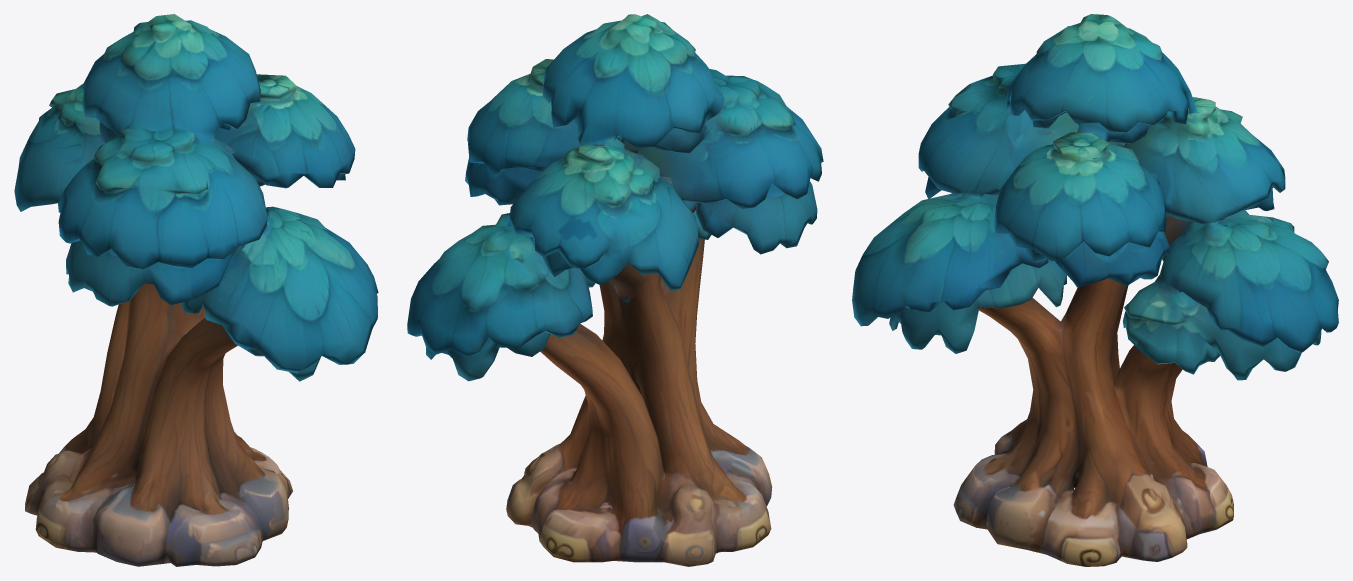
The model's file is 09-garden-teal-dome-tree.glb.
3 views of the same model, side by side, from view 1: azimuth 30°, elevation 25°; view 2: azimuth 150°, elevation 25°; view 3: azimuth 270°, elevation 25° (orthographic).
Visible parts, largest first — view 1: tripo_node_a473a8bf; view 2: tripo_node_a473a8bf; view 3: tripo_node_a473a8bf.
Part boxes in pixels (x1,y1,x2,y2): tripo_node_a473a8bf: (14, 14, 378, 566); tripo_node_a473a8bf: (407, 14, 823, 566); tripo_node_a473a8bf: (852, 14, 1338, 566).
Bounding box in the file's own units: 0.2505 × 0.4 × 0.3491.
1 material, 1 textured.
